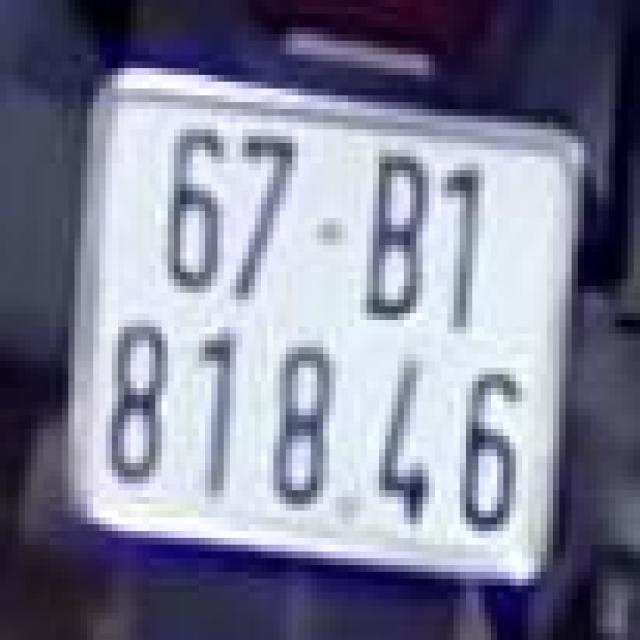1: (186, 310, 248, 507), (441, 140, 479, 330)
4: (364, 337, 438, 534)
6: (152, 109, 227, 293), (463, 358, 525, 542)
7: (233, 123, 301, 300)
8: (93, 299, 174, 504), (276, 327, 338, 510)
B: (354, 129, 435, 327)
